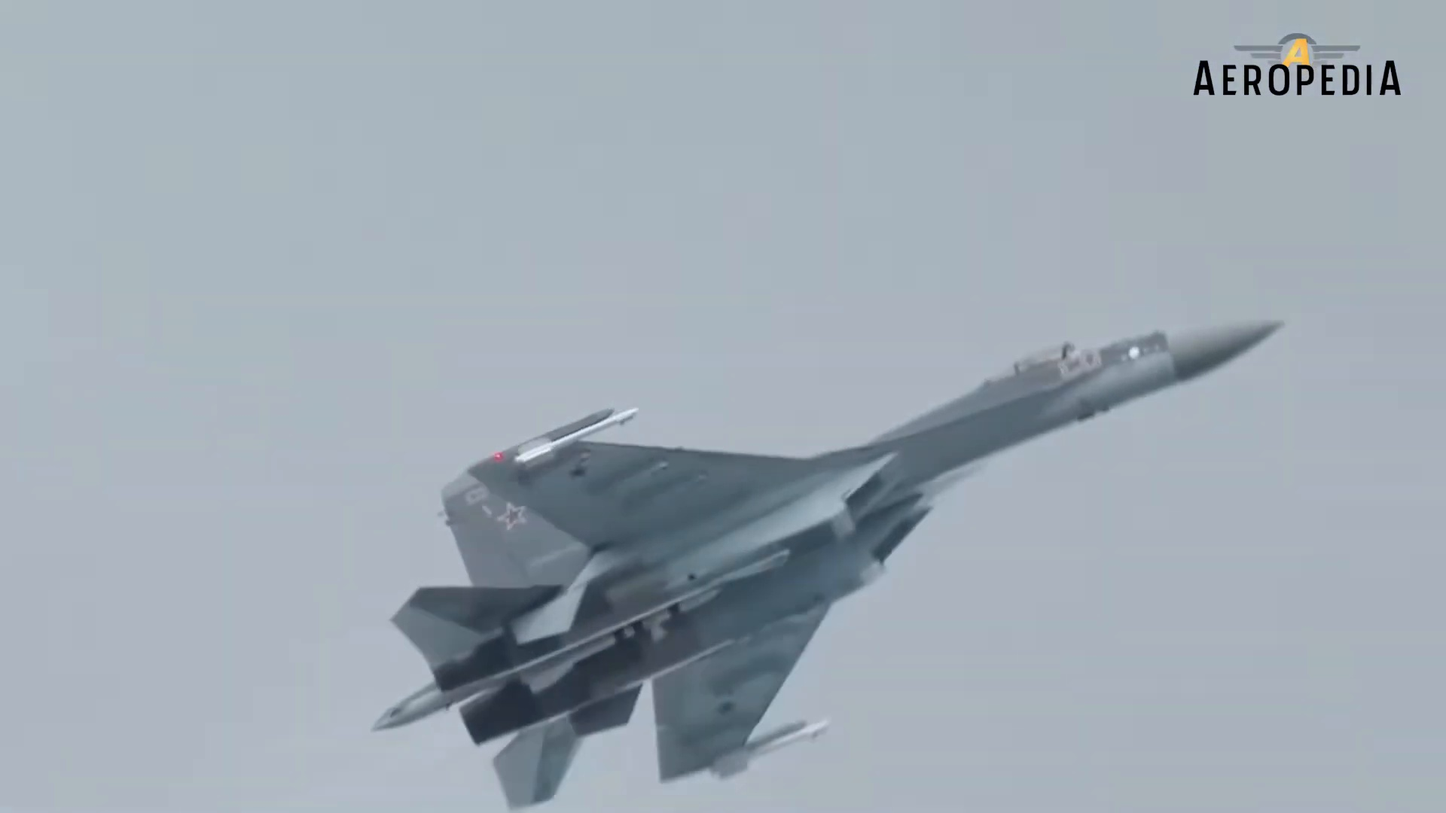Su35: (371, 321, 1278, 808)
